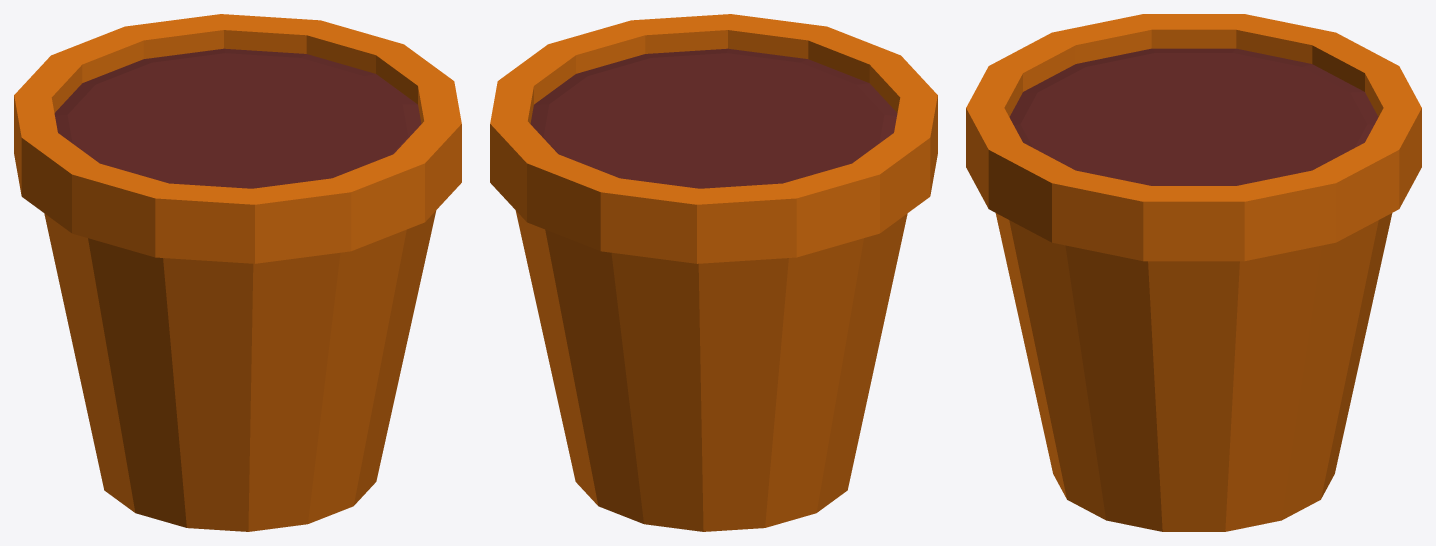
Rendered from Flowerpot.fbx.
The picture shows the model from 3 angles, left to right: view 1: azimuth 30°, elevation 25°; view 2: azimuth 150°, elevation 25°; view 3: azimuth 270°, elevation 25°; orthographic projection.
Visible parts, largest first — view 1: FlowerPot; view 2: FlowerPot; view 3: FlowerPot.
Part boxes in pixels (x1,y1,x2,y2): FlowerPot: (14,14,461,531); FlowerPot: (490,14,937,531); FlowerPot: (966,14,1421,531).
Bounding box in the file's own units: 0.7795 × 0.7995 × 0.7085.
